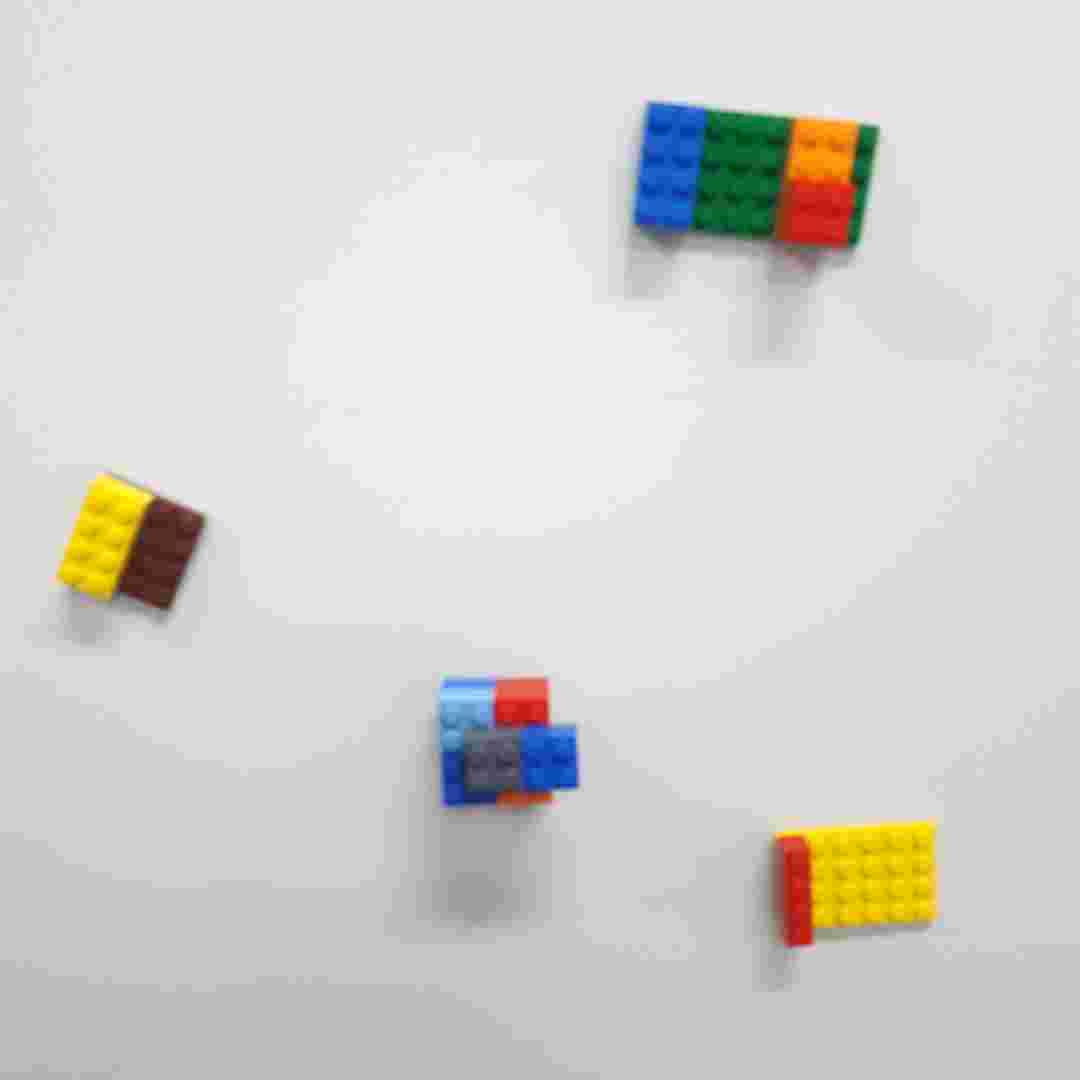LEGO: (630, 98, 883, 255), (427, 672, 589, 819), (775, 816, 943, 949), (53, 471, 202, 619)
